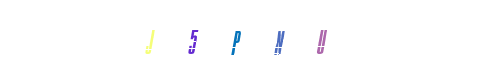5: (153, 0, 233, 80)
J: (110, 0, 190, 80)
N: (218, 0, 298, 80)
P: (207, 0, 287, 80)
U: (252, 0, 332, 80)
